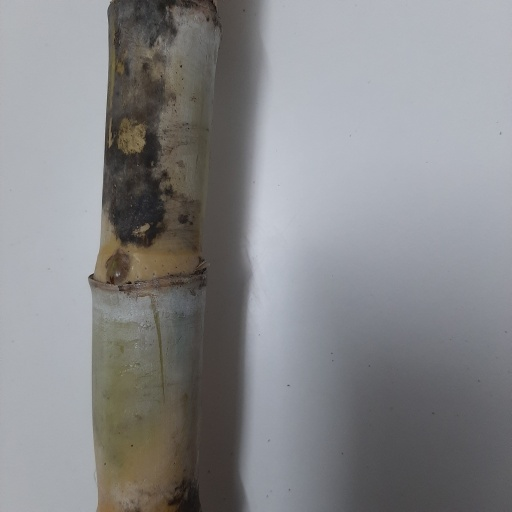Bud: (105, 258, 129, 283)
